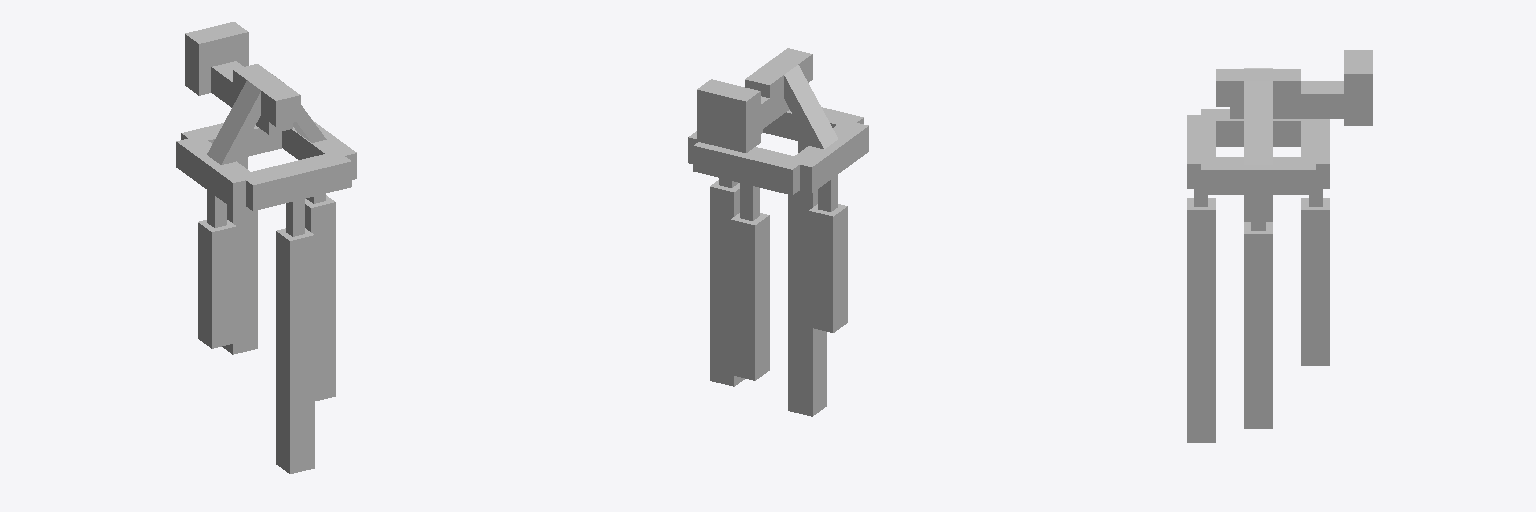
File: 725_wind_chime.obj
3 views of the same model, side by side, from view 1: azimuth 30°, elevation 25°; view 2: azimuth 150°, elevation 25°; view 3: azimuth 270°, elevation 25° (orthographic).
Visible parts, largest first — view 1: Chime1, Chime4, Chime2, Ring1, Chime3, Hook1, Ring4, Support1, Ring2, Hook4, Ring3, Hook2 (+3 smaller); view 2: Chime1, Chime3, Chime4, Chime2, Hook1, Ring3, Ring4, Support1, Ring1, Hook3, String3, Hook2 (+2 smaller); view 3: Chime1, Chime2, Chime3, Ring2, Support3, Hook2, Hook1, Ring4, Ring1, Ring3, Hook4, Hook3 (+1 smaller).
Part boxes in pixels (bbox=[...]): Chime1: bbox=[276, 228, 314, 473]; Chime4: bbox=[198, 220, 236, 348]; Chime2: bbox=[305, 195, 335, 400]; Ring1: bbox=[239, 154, 351, 210]; Chime3: bbox=[222, 205, 257, 354]; Hook1: bbox=[185, 22, 248, 95]; Ring4: bbox=[176, 138, 255, 208]; Support1: bbox=[207, 80, 260, 164]; Ring2: bbox=[282, 121, 356, 179]; Hook4: bbox=[261, 85, 300, 126]; Ring3: bbox=[181, 123, 281, 158]; Hook2: bbox=[211, 61, 292, 134]; Chime1: bbox=[788, 189, 826, 416]; Chime3: bbox=[731, 213, 769, 380]; Chime4: bbox=[809, 204, 847, 332]; Chime2: bbox=[710, 180, 744, 386]; Hook1: bbox=[697, 79, 760, 152]; Ring3: bbox=[693, 142, 806, 195]; Ring4: bbox=[795, 123, 868, 192]; Support1: bbox=[784, 65, 837, 149]; Ring1: bbox=[763, 107, 863, 143]; Hook3: bbox=[745, 69, 783, 100]; String3: bbox=[740, 183, 759, 220]; Hook2: bbox=[761, 88, 789, 129]; Chime1: bbox=[1187, 198, 1215, 442]; Chime2: bbox=[1244, 222, 1272, 428]; Chime3: bbox=[1301, 198, 1329, 365]; Ring2: bbox=[1201, 157, 1315, 194]; Support3: bbox=[1244, 81, 1272, 164]; Hook2: bbox=[1230, 81, 1343, 118]; Hook1: bbox=[1344, 50, 1372, 125]; Ring4: bbox=[1201, 109, 1315, 146]; Ring1: bbox=[1187, 115, 1215, 188]; Ring3: bbox=[1301, 119, 1329, 188]; Hook4: bbox=[1216, 69, 1243, 106]; Hook3: bbox=[1273, 69, 1300, 106].
Size of the model in its own units: 0.625 by 1.88 by 0.8125.